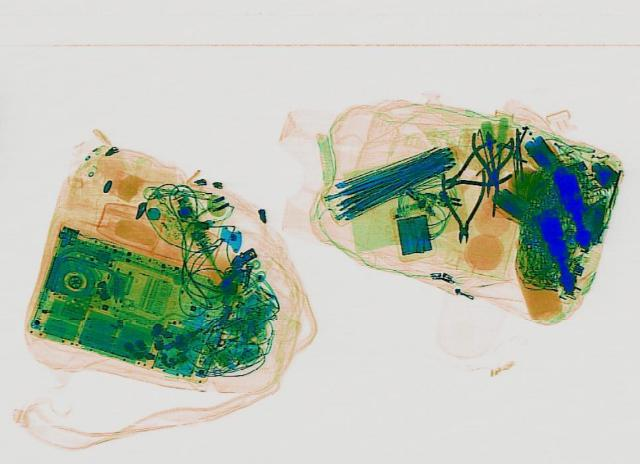Pliers: (424, 142, 516, 200), (462, 128, 518, 216), (439, 168, 485, 242)
